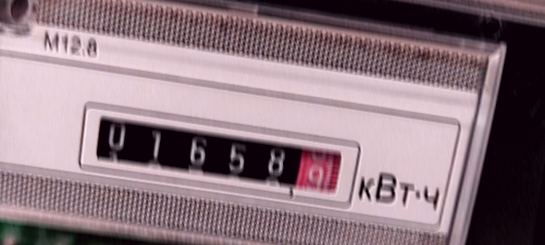0: (106, 118, 132, 153)
1: (149, 128, 167, 161)
5: (228, 141, 252, 176)
6: (189, 134, 213, 168)
8: (267, 145, 290, 179)
9: (306, 163, 327, 191)
screen: (70, 93, 369, 214)
